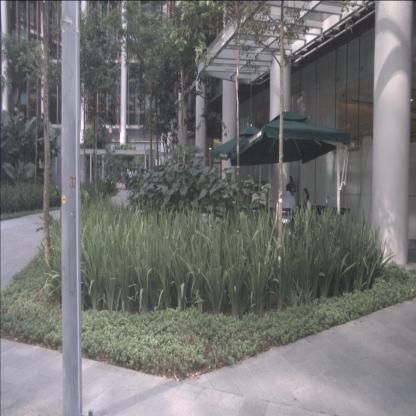human-pedestrian-adult: (279, 183, 296, 251), (296, 188, 312, 250), (288, 176, 294, 213), (128, 168, 132, 191), (126, 168, 130, 190), (121, 169, 125, 190)
